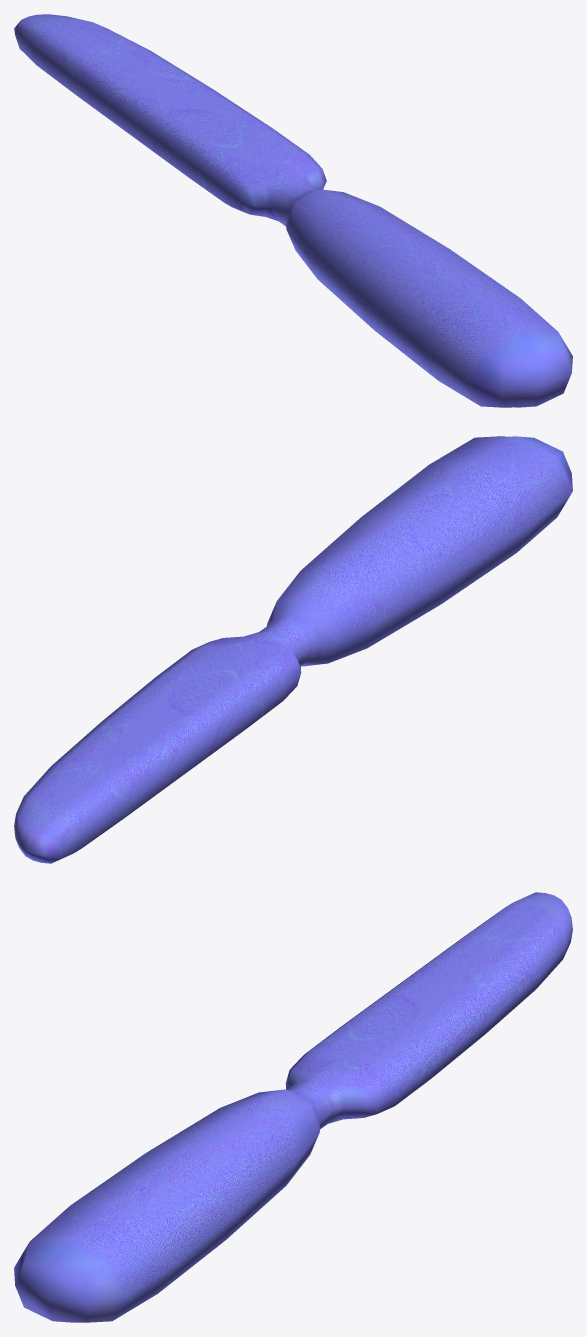
File: cuchillo uv.fbx
3 views of the same model, one above another, from view 1: azimuth 30°, elevation 25°; view 2: azimuth 150°, elevation 25°; view 3: azimuth 330°, elevation 25° (orthographic). The views are drawn at different scales.
Visible parts, largest first — view 1: cuchillo; view 2: cuchillo; view 3: cuchillo.
Boxes of the visible parts, x1,y1,x2,y2 form: cuchillo: (14,14,572,407); cuchillo: (14,436,572,863); cuchillo: (14,892,572,1322).
Bounding box in the file's own units: 24.21 × 17.8 × 185.
